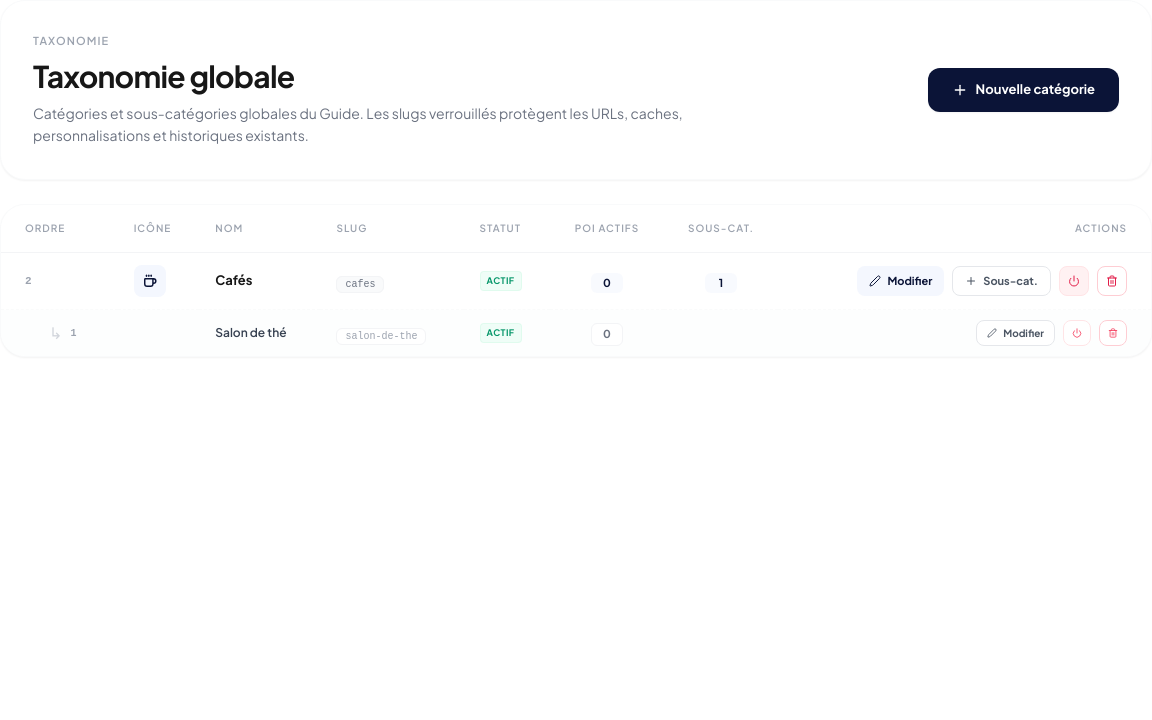
074 AC-02-01 — confirmation de suppression › catégorie : images repassées dans « Non classées »
Click the button named "Supprimer Cafés" at (1112, 281), box top-left (1097, 266), bottom-right (1127, 296)
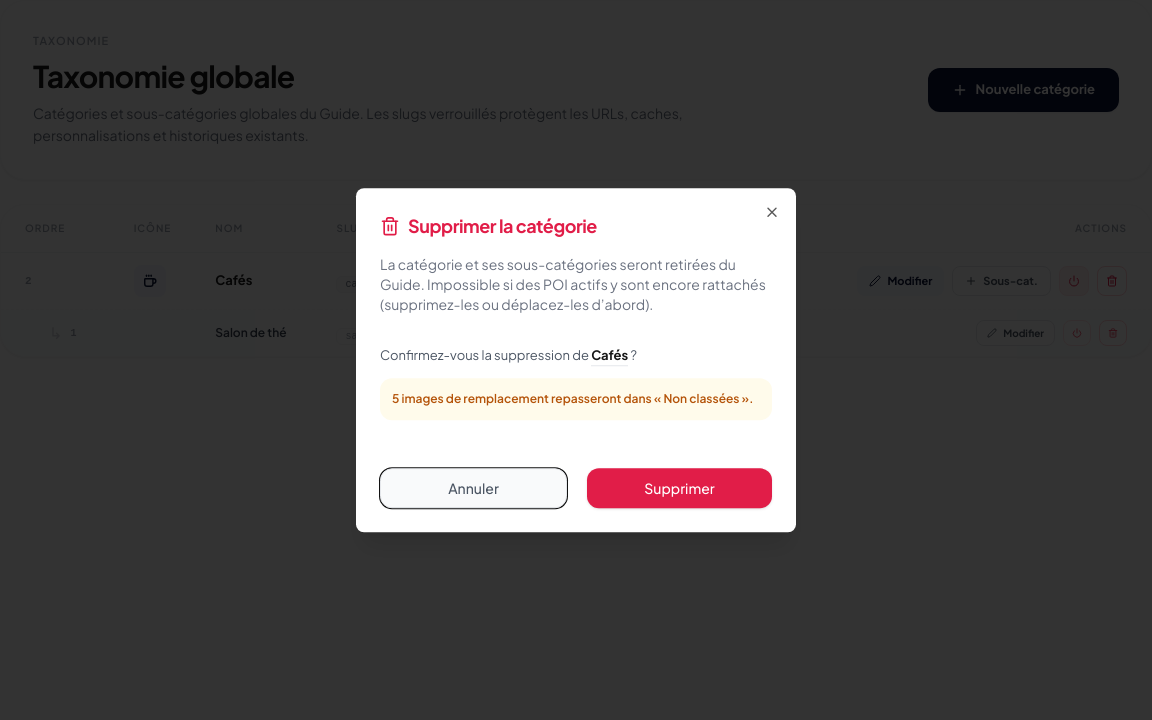
expect the text "5 images de remplacement repasseront dans « Non classées »." is shown: met, box top-left (380, 378), bottom-right (772, 420)
